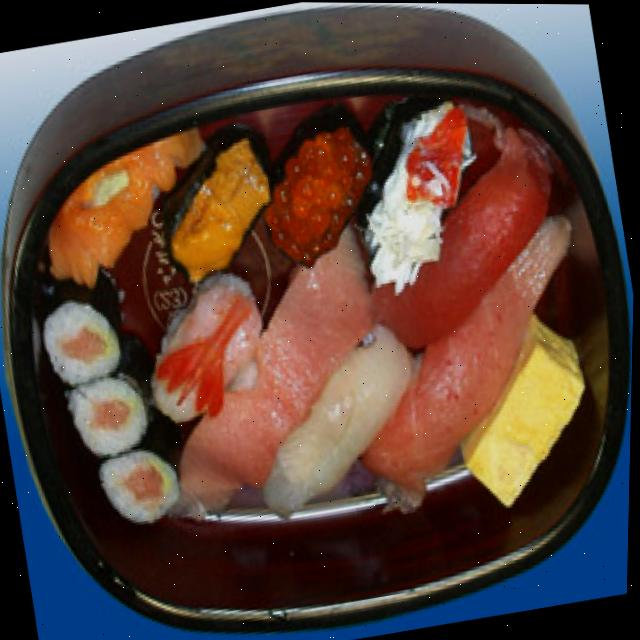寿司卷物: (0, 3, 640, 640)
